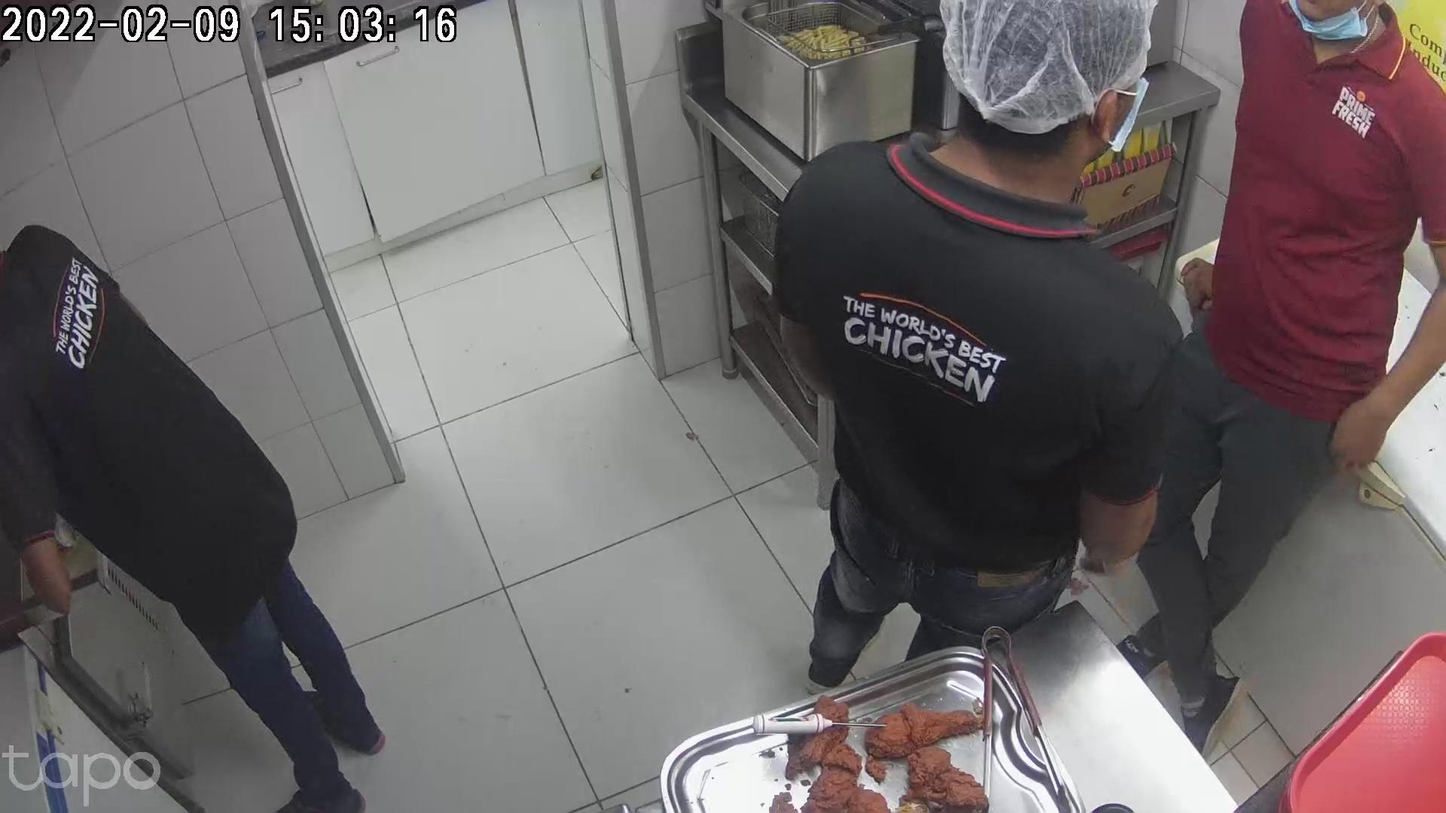no_gloves: (596, 250, 765, 325)
